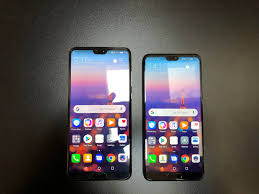huawei: (66, 45, 131, 180), (139, 51, 205, 182)
